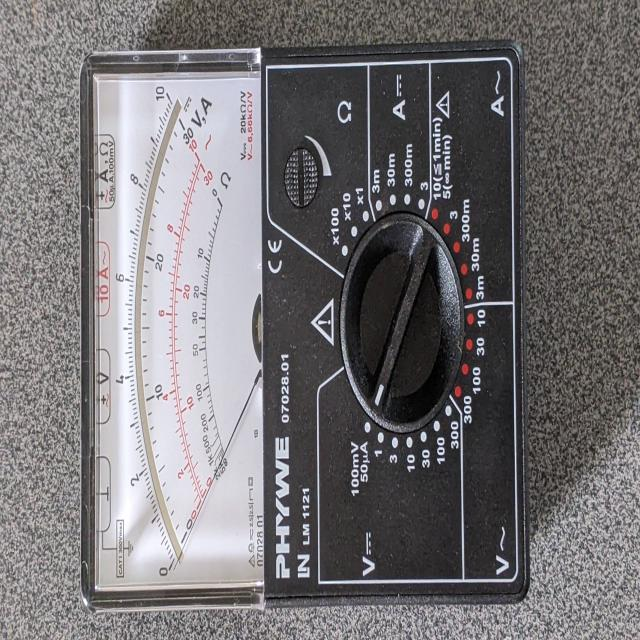Analog Multimeter: (74, 28, 540, 625)
